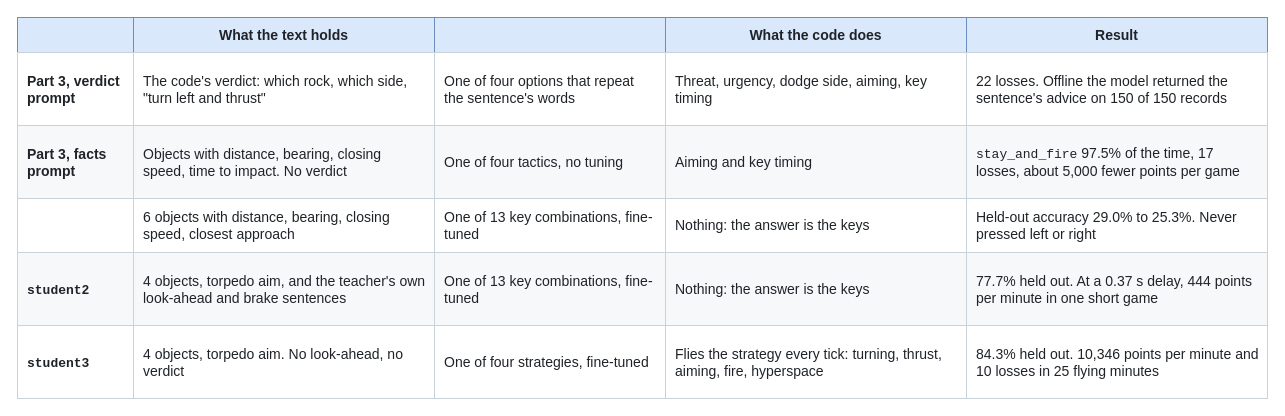
Some shapes in this 1285 by 416 pixel diagram are drawn without their labels. The shapes that lost their labels are listed below. From the top down, each one's centre as x and y in pixels, then its label:
At [75,34]: "Pilot".
At [550,34]: "What the model chooses".
At [75,225]: "student1".
